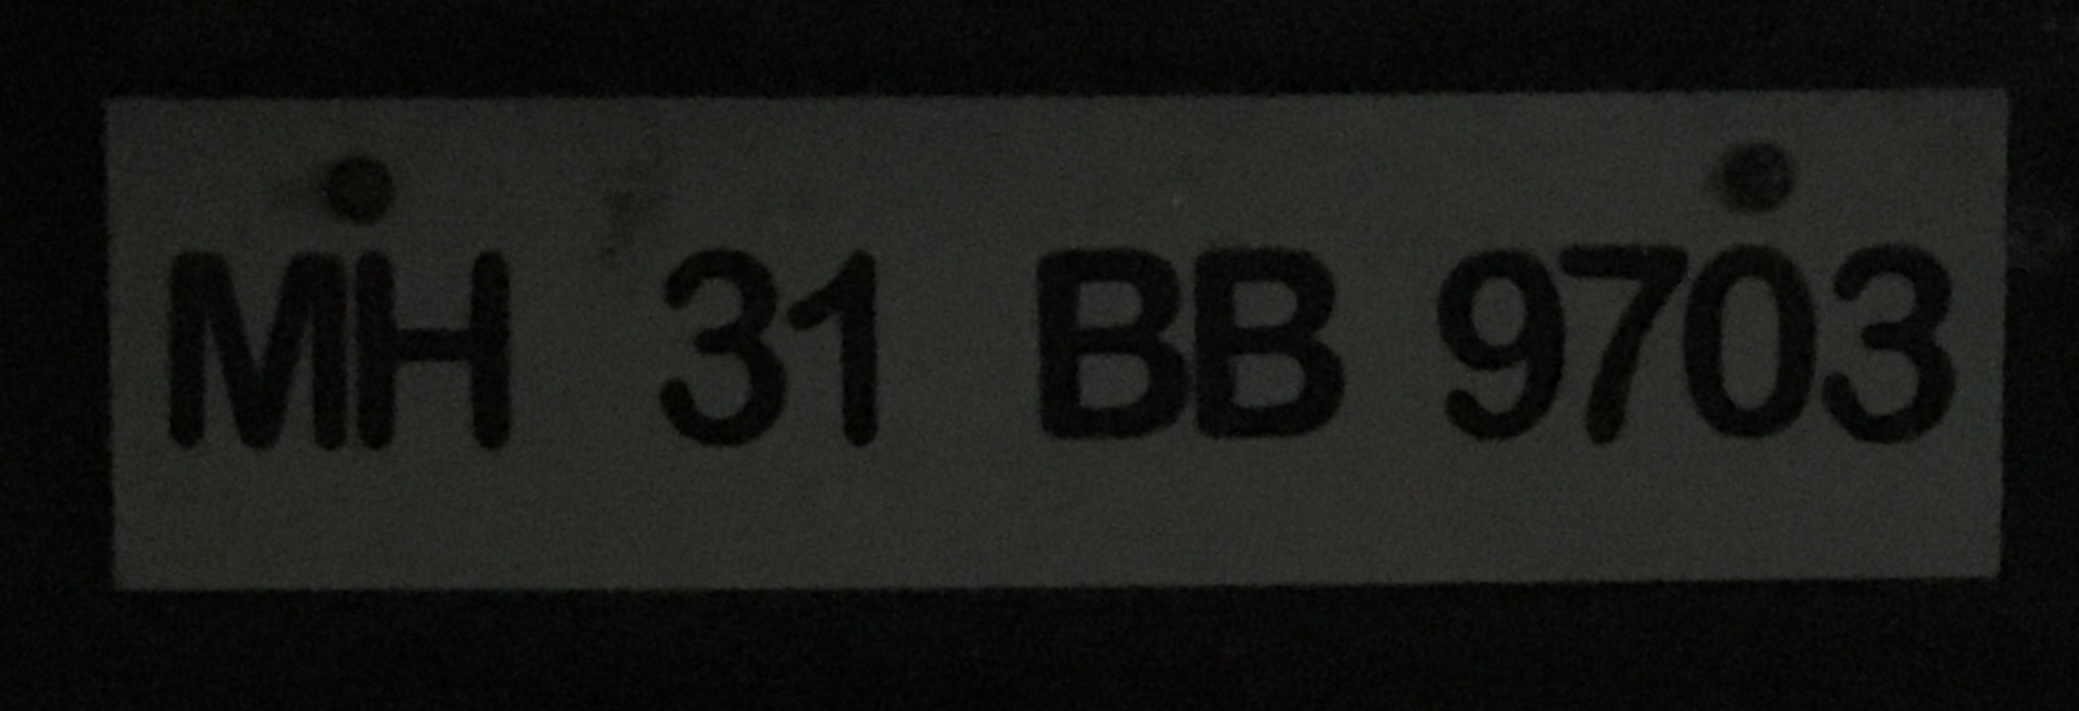numberplate: (92, 84, 2021, 596)
